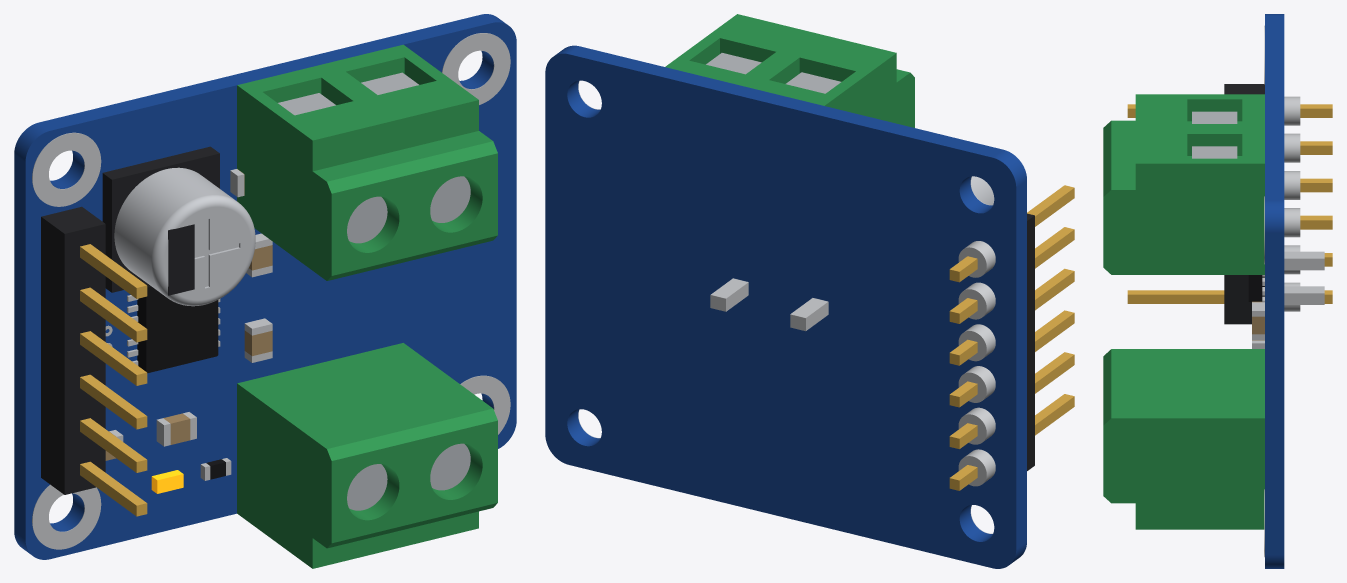
Rendered from motor-driver.glb.
3 views of the same model, side by side, from view 1: azimuth 30°, elevation 25°; view 2: azimuth 150°, elevation 25°; view 3: azimuth 270°, elevation 25° (orthographic). The views are drawn at different scales.
Parts seen in each view (by area): view 1: motor-driver; view 2: motor-driver; view 3: motor-driver.
Boxes of the visible parts, box(x1,y1,x2,y2) form: motor-driver: box(14, 14, 516, 568); motor-driver: box(545, 14, 1074, 568); motor-driver: box(1103, 14, 1332, 568).
Size of the model in its own units: 30 by 25 by 14.2.
